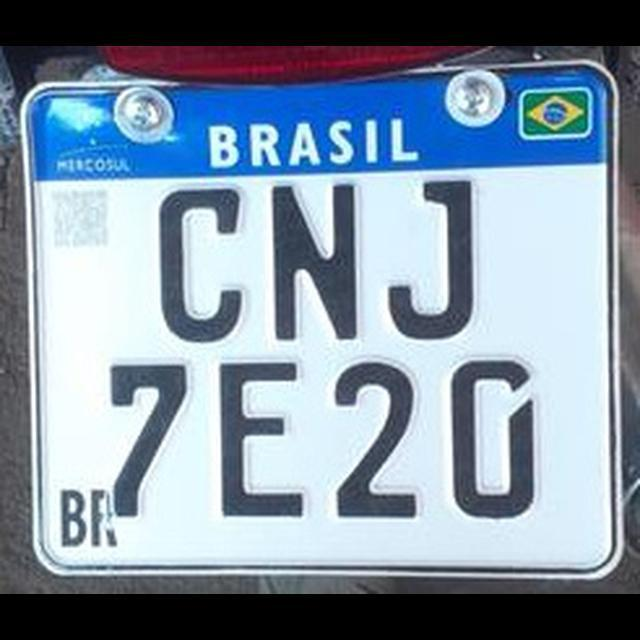Caractere: (382, 172, 480, 346), (212, 356, 312, 524), (330, 354, 422, 524), (265, 177, 359, 343), (444, 352, 536, 520), (154, 180, 246, 344), (106, 359, 198, 521)
Placa: (21, 56, 624, 584)
